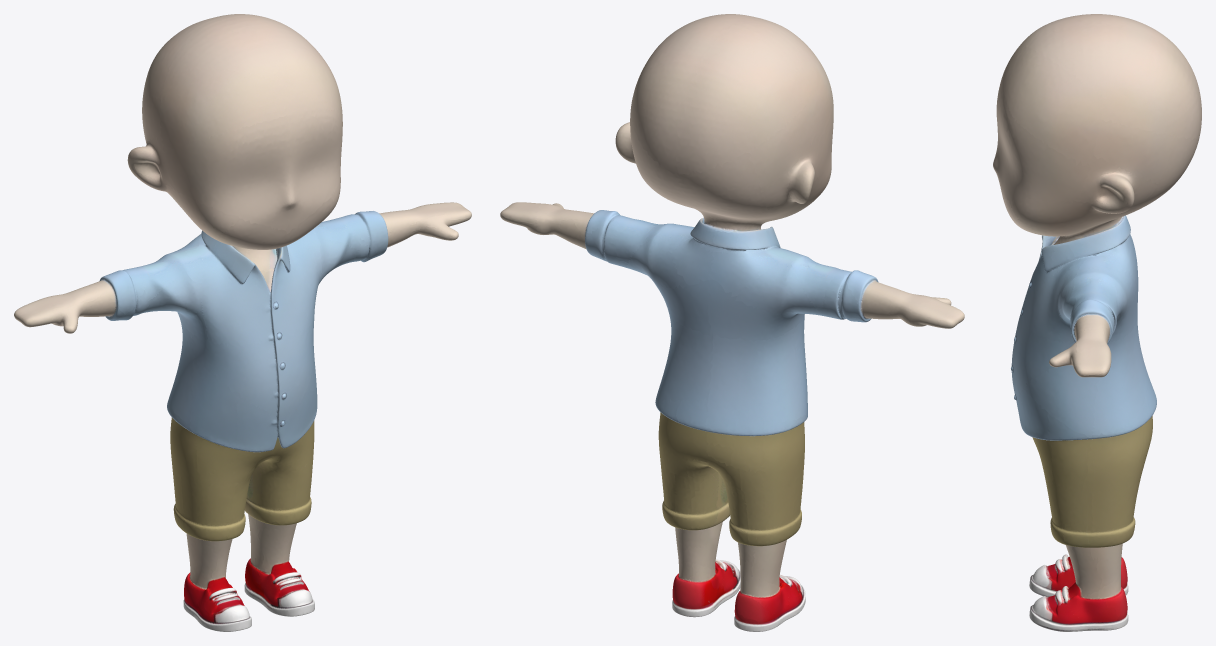
The model's file is baked_noutfit_shirt.glb.
3 views of the same model, side by side, from view 1: azimuth 30°, elevation 25°; view 2: azimuth 150°, elevation 25°; view 3: azimuth 270°, elevation 25° (orthographic).
Bounding box in the file's own units: 1.54 × 1.9 × 0.6181.
Materials: 1 (1 with a texture image).
